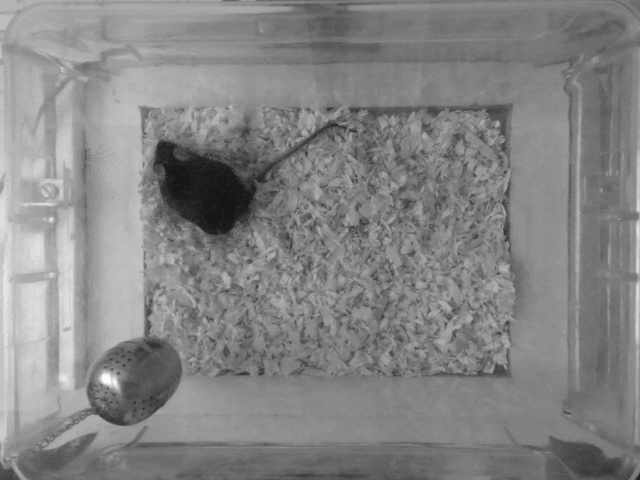mice: (154, 116, 346, 236)
